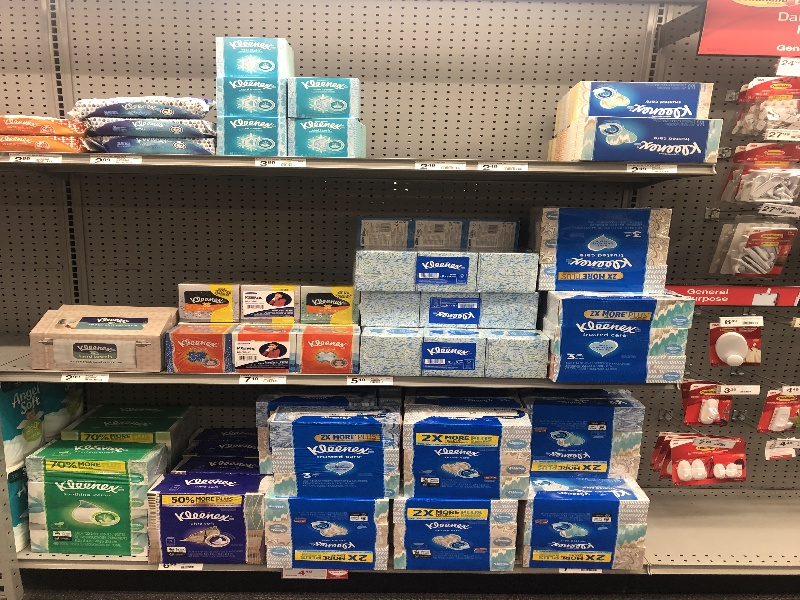void: (361, 1, 558, 156)
